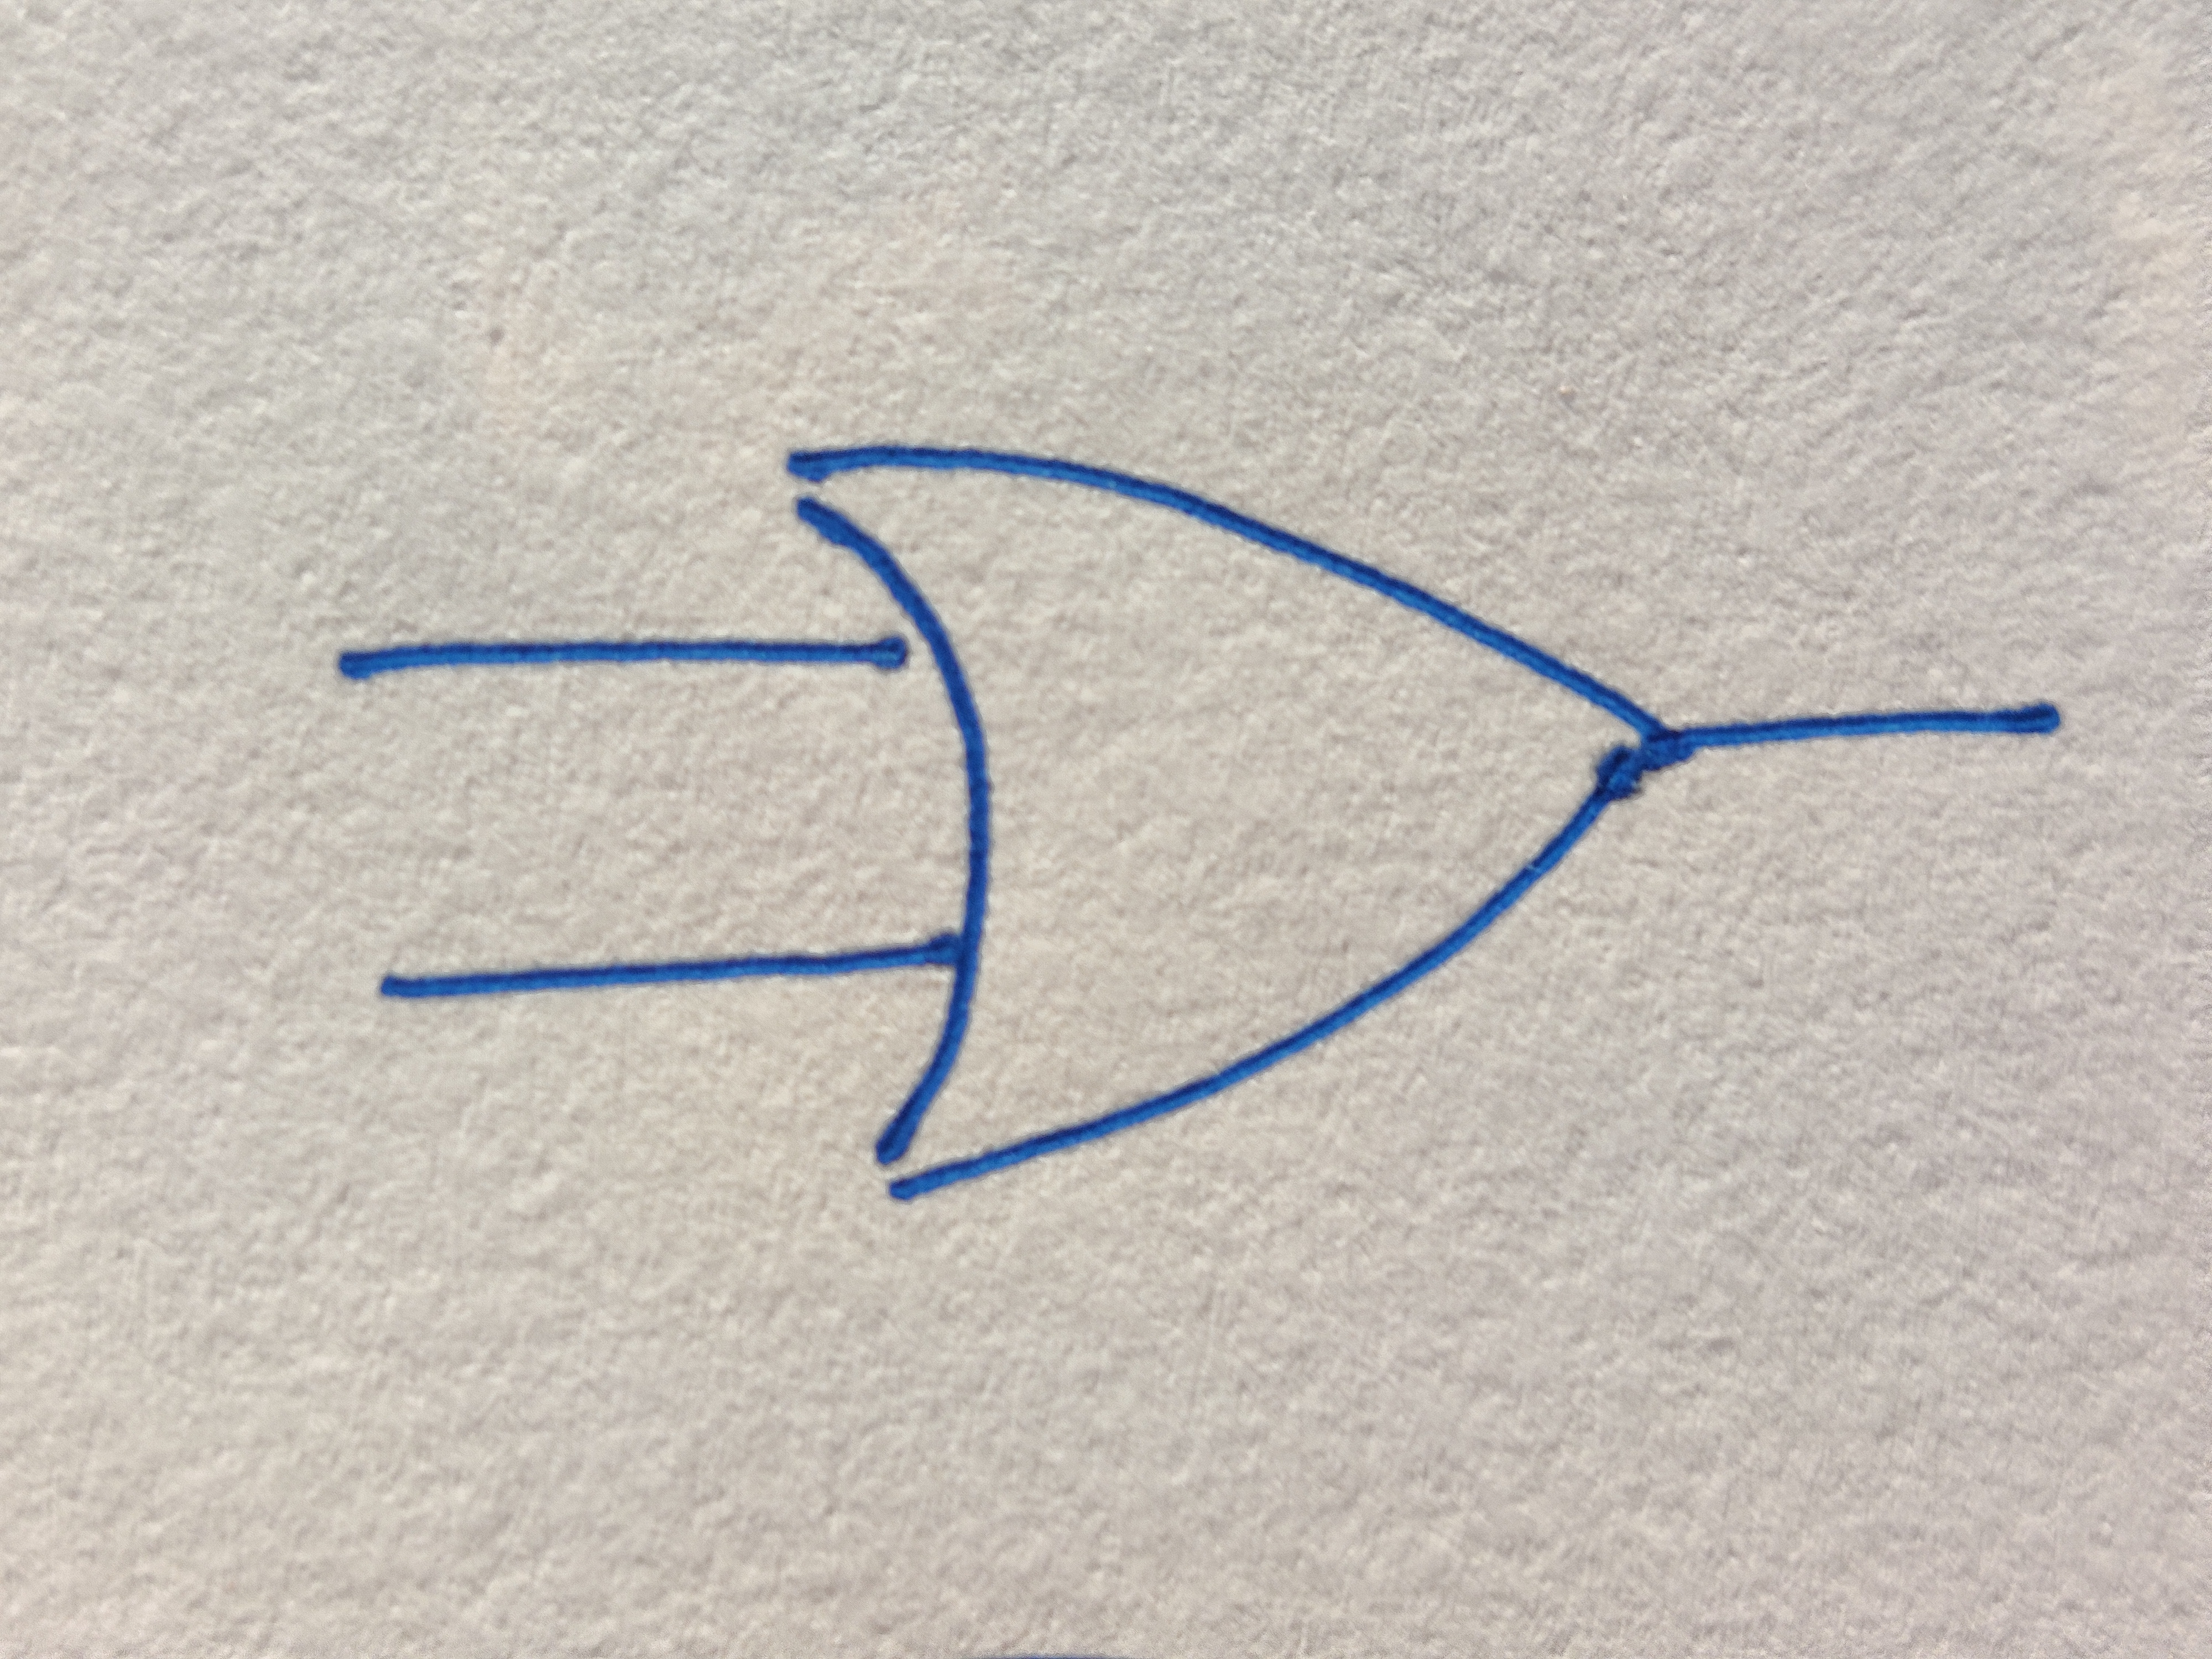or: (786, 446, 1669, 1192)
